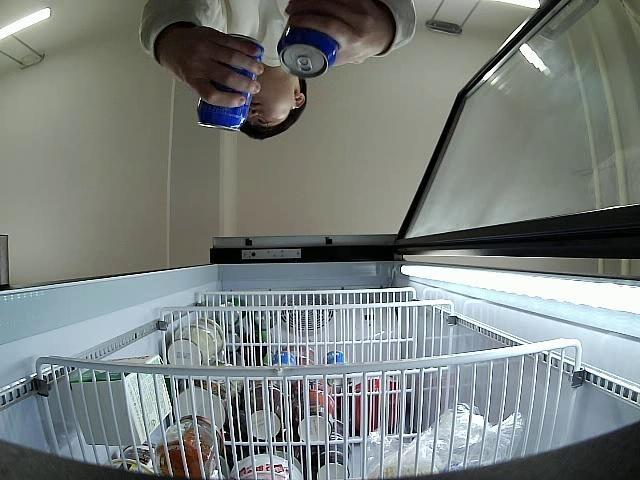13_pocariSweat: (195, 32, 264, 135), (277, 16, 342, 78)
